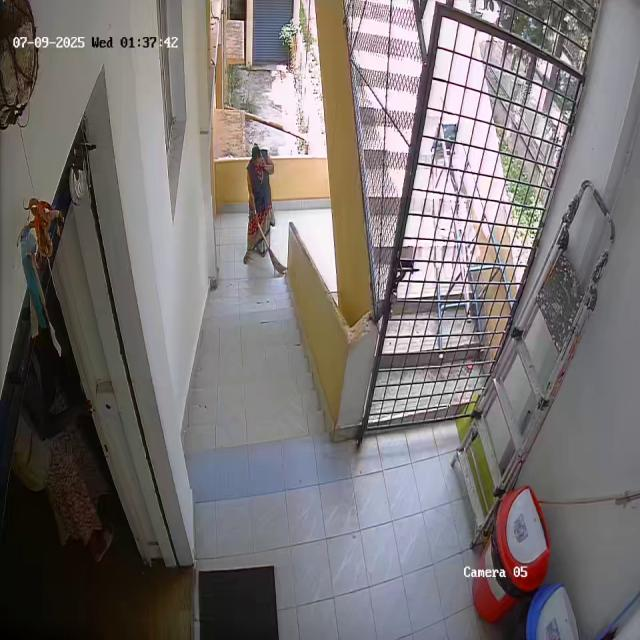person: (242, 145, 278, 264)
